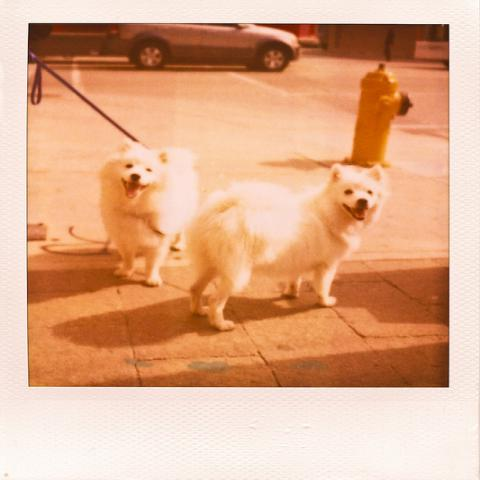car: (97, 25, 301, 73)
